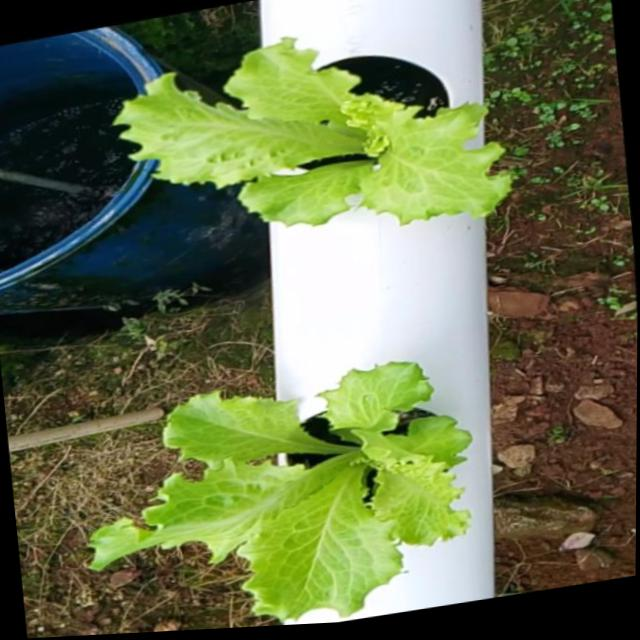Baby: (94, 361, 476, 620), (118, 33, 517, 221)
